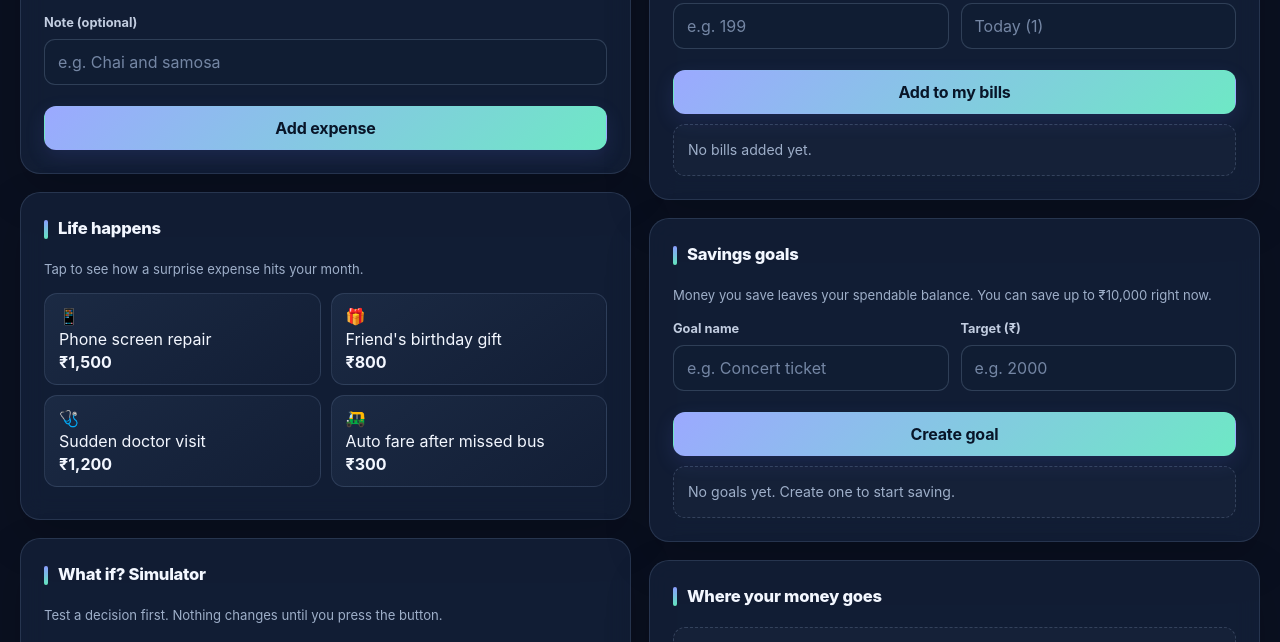
App › a surprise expense lowers the balance
(page scrolled)
Step 1. Click the button "📱 Phone screen repair ₹1,500" → coordinates (182, 339), box [44,293,320,385]
(page scrolled)
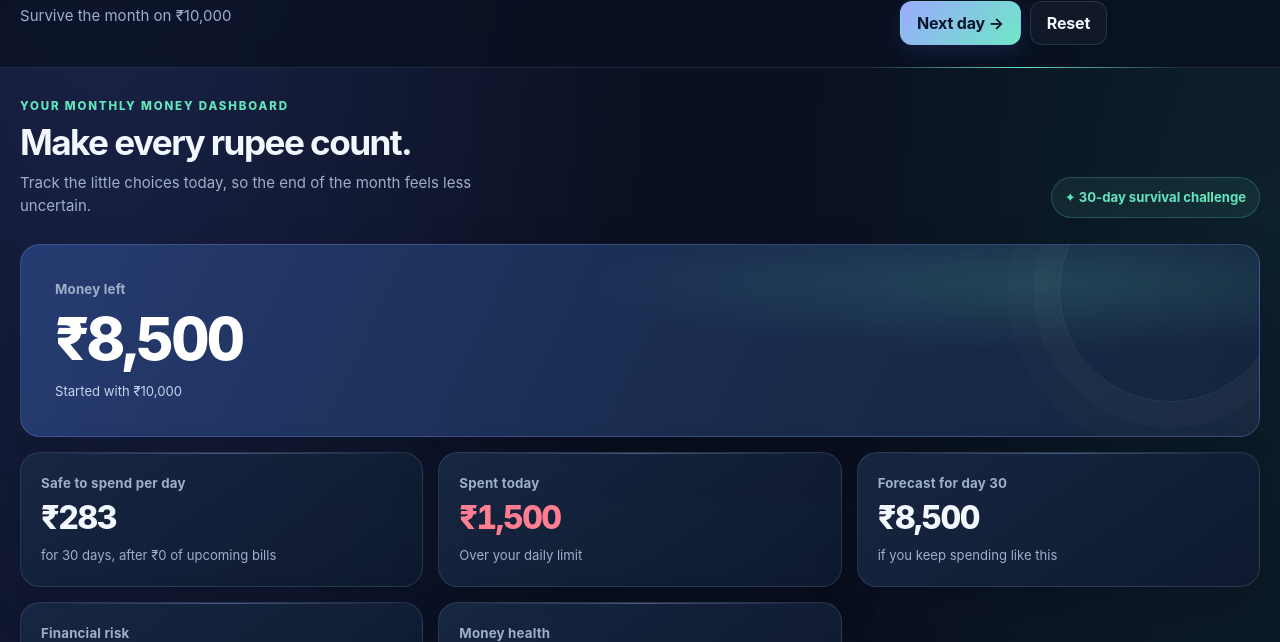
Check: the text with test id "balance" reads "₹8,500", box [55,303,242,374]
